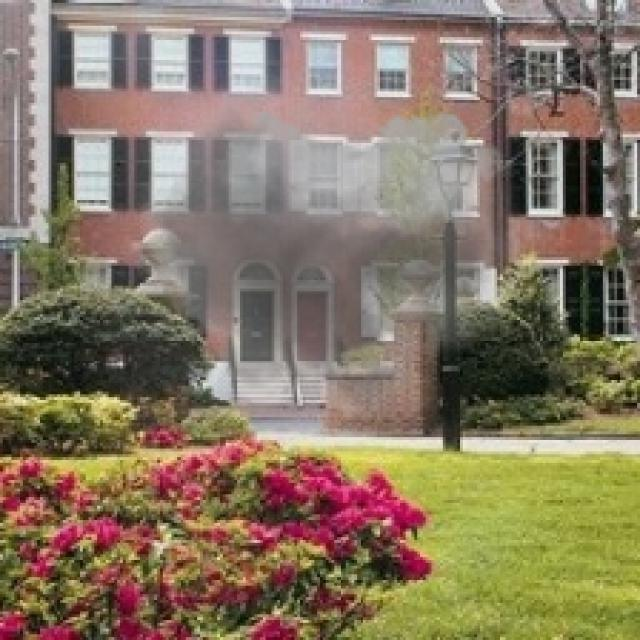Smoke: (120, 28, 529, 440)
